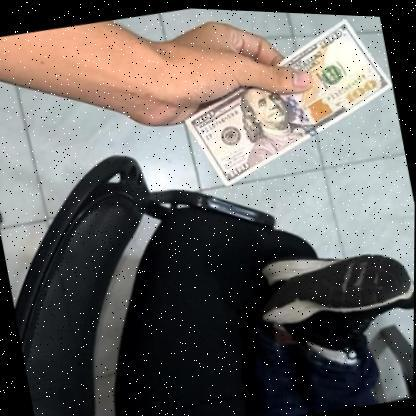one_hundred-front: (167, 6, 407, 197)
